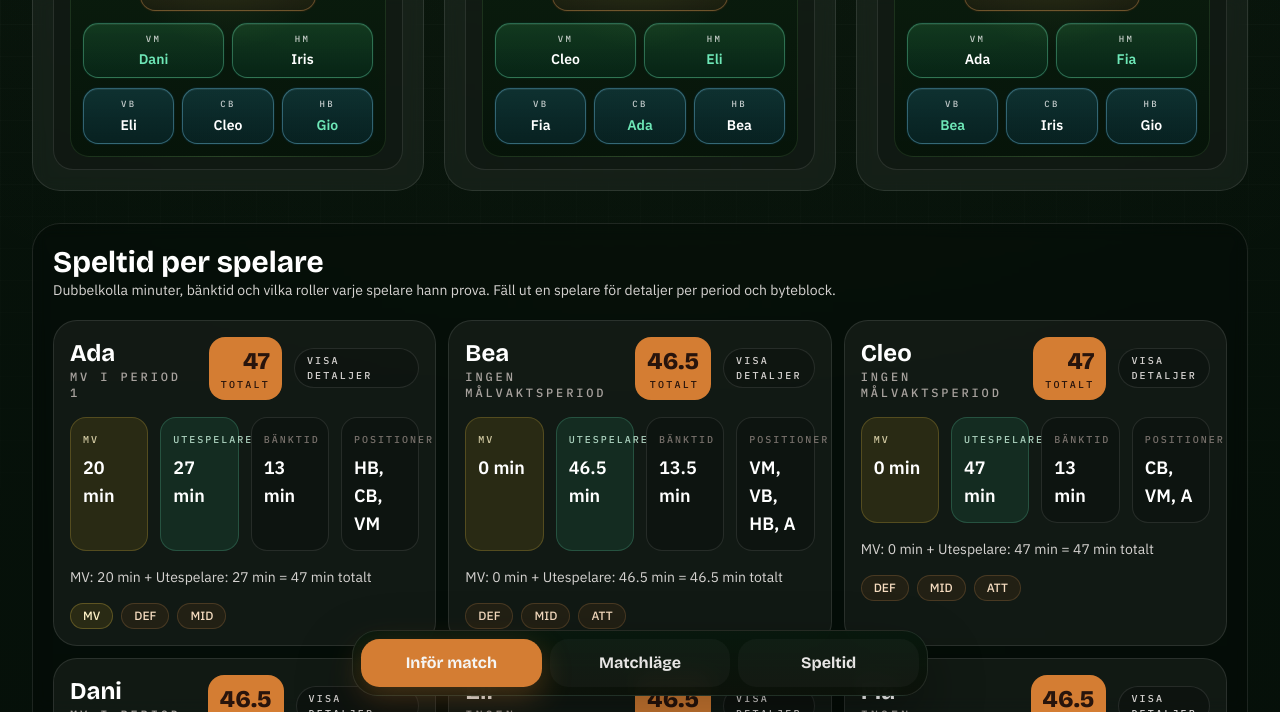
Test: App › shows a goalkeeper and outfield minute split for players with goalkeeper time
The width and height of the screenshot is (1280, 712).
(page scrolled)
Click the heading "Ada" at (93, 352), box [70, 338, 115, 366]
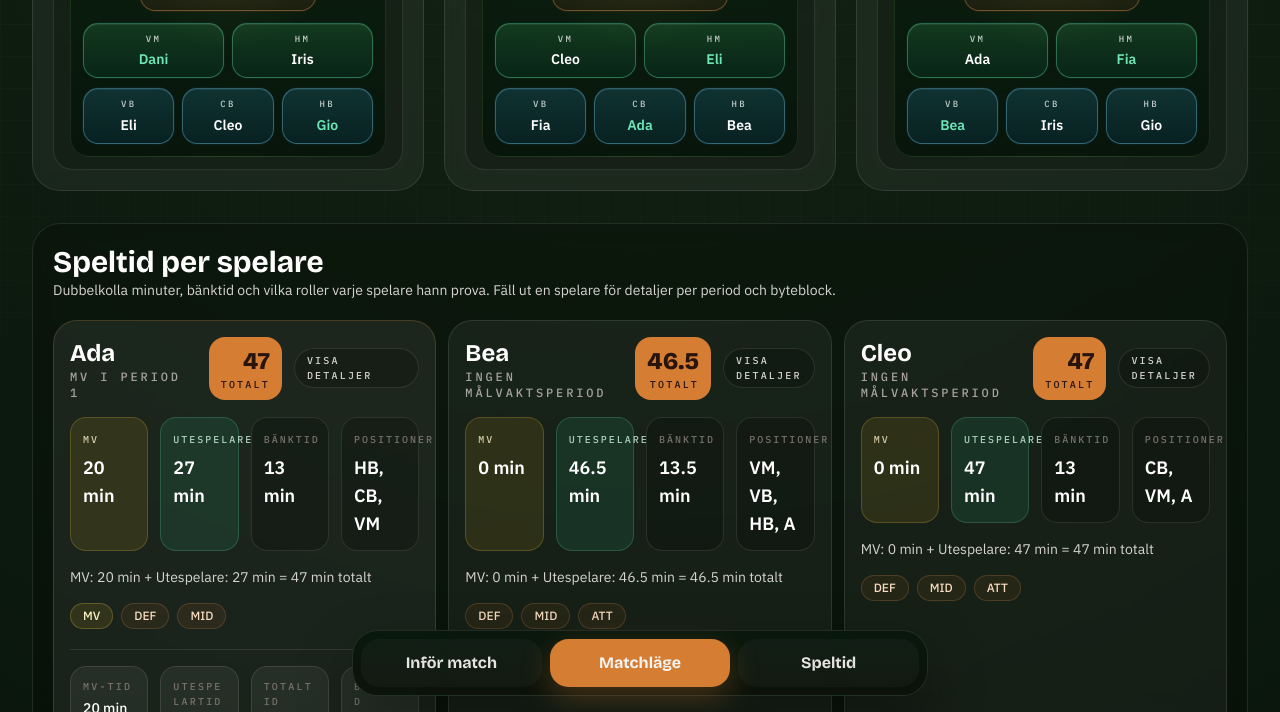
Expected: the text "MV-tid" is shown, [83, 678, 135, 694]
Expected: the text "Utespelartid" is shown, [173, 678, 226, 708]
Expected: the text "Totaltid" is shown, [264, 678, 316, 708]
